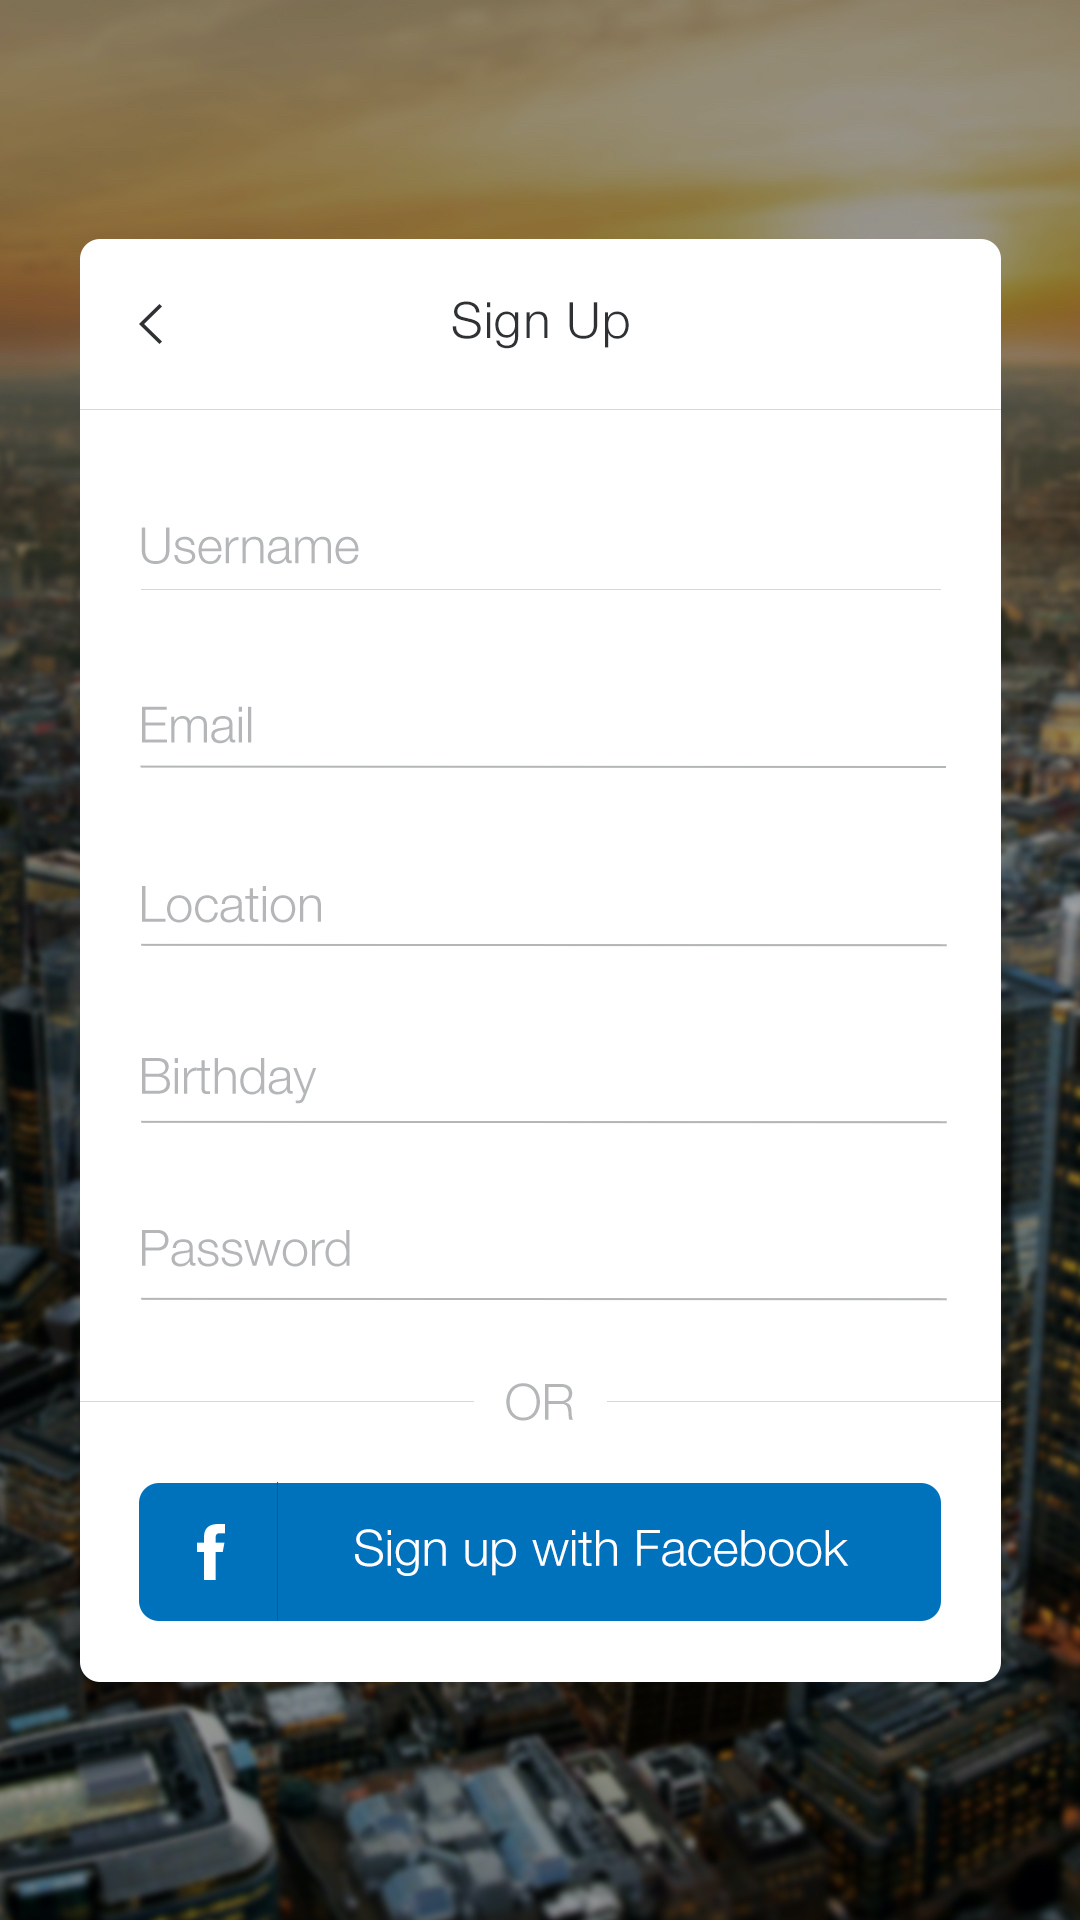EditText: (141, 1229, 948, 1302), (142, 1058, 948, 1124), (141, 705, 947, 770), (141, 527, 942, 592), (141, 886, 948, 948)
Icon: (138, 305, 164, 345)
Modal: (79, 239, 1002, 1683)
Text: (452, 301, 630, 349), (140, 1229, 352, 1269), (142, 527, 360, 566), (142, 1058, 318, 1104), (141, 885, 323, 924), (141, 705, 255, 746), (506, 1382, 575, 1422)
TextButton: (138, 1482, 942, 1622)
